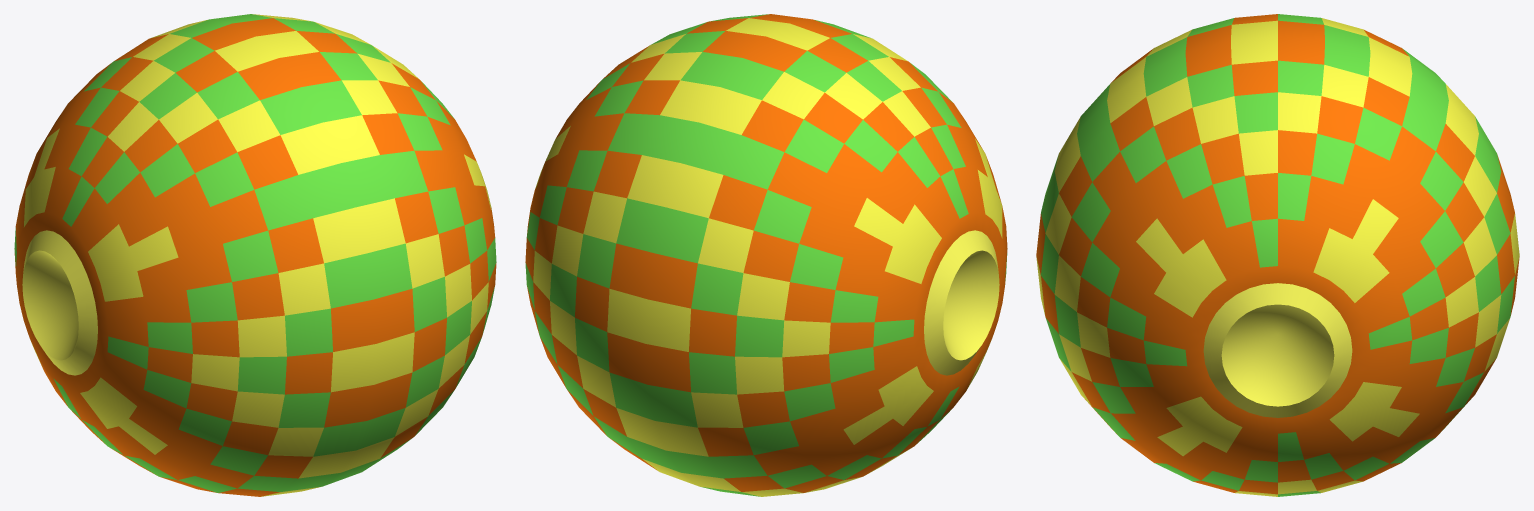
The model's file is ball_orangeyellow.fbx.
The picture shows the model from 3 angles, left to right: view 1: azimuth 30°, elevation 25°; view 2: azimuth 150°, elevation 25°; view 3: azimuth 270°, elevation 25°; orthographic projection.
Visible parts, largest first — view 1: Coloured Ball 3; view 2: Coloured Ball 3; view 3: Coloured Ball 3.
Boxes of the visible parts, bbox=[...] form: Coloured Ball 3: bbox=[14, 14, 496, 496]; Coloured Ball 3: bbox=[525, 14, 1007, 496]; Coloured Ball 3: bbox=[1036, 14, 1519, 496].
Bounding box in the file's own units: 43.26 × 44.16 × 44.16.
